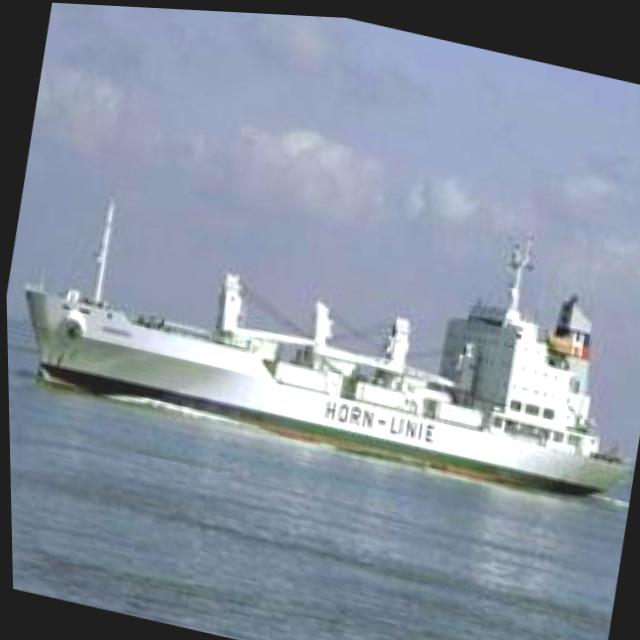ship2: (21, 196, 628, 493)
